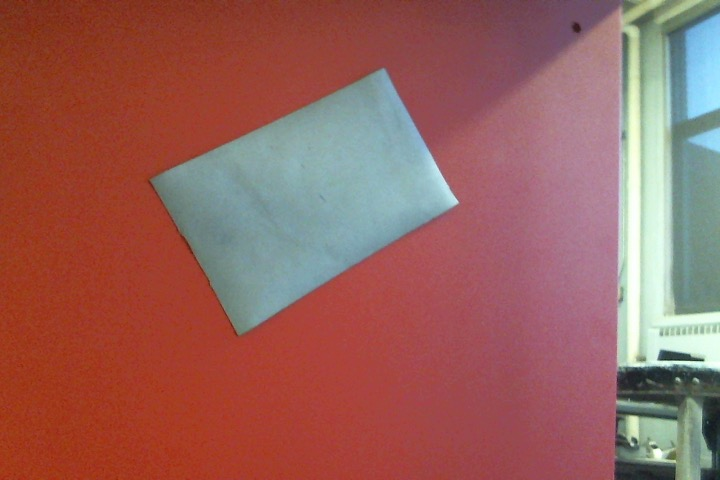Tape: (148, 68, 460, 336)
